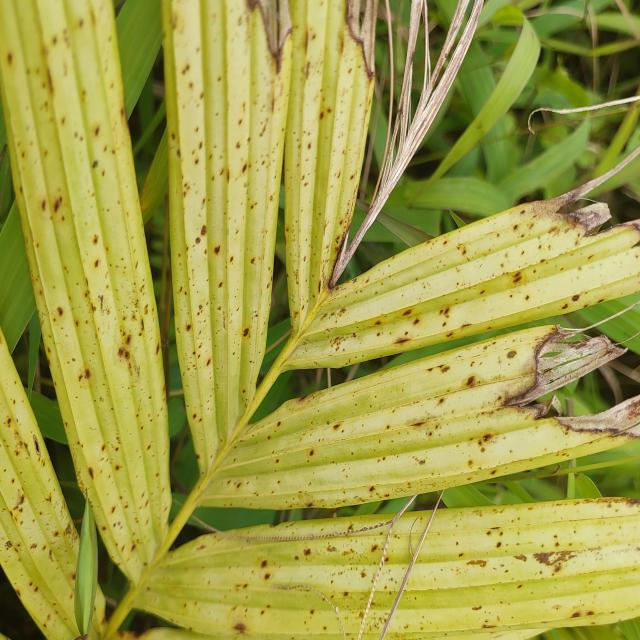Stem_Cracking: (138, 99, 580, 430)
